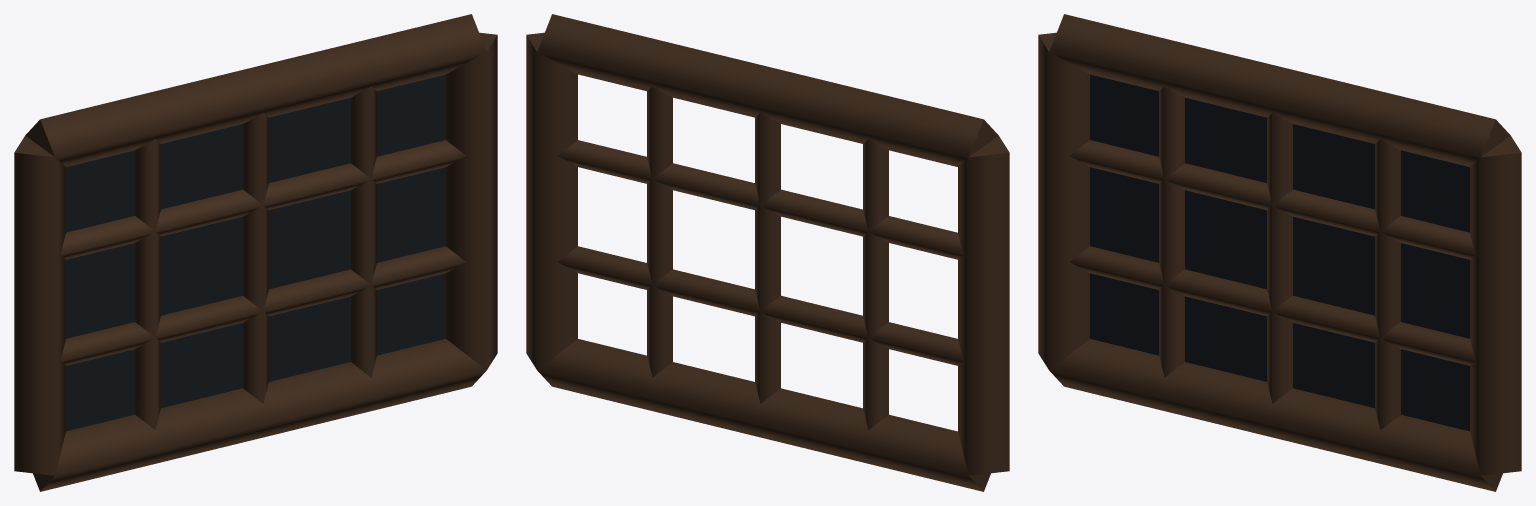
File: casement_wide_01.glb
The picture shows the model from 3 angles, left to right: view 1: azimuth 30°, elevation 25°; view 2: azimuth 150°, elevation 25°; view 3: azimuth 330°, elevation 25°; orthographic projection.
Visible parts, largest first — view 1: window_casement_wide_01; view 2: window_casement_wide_01; view 3: window_casement_wide_01.
Part boxes in pixels (x1,y1,x2,y2): window_casement_wide_01: (14, 14, 497, 491); window_casement_wide_01: (526, 14, 1009, 491); window_casement_wide_01: (1038, 14, 1521, 491).
Size of the model in its own units: 1.49 by 1.1 by 0.16.
